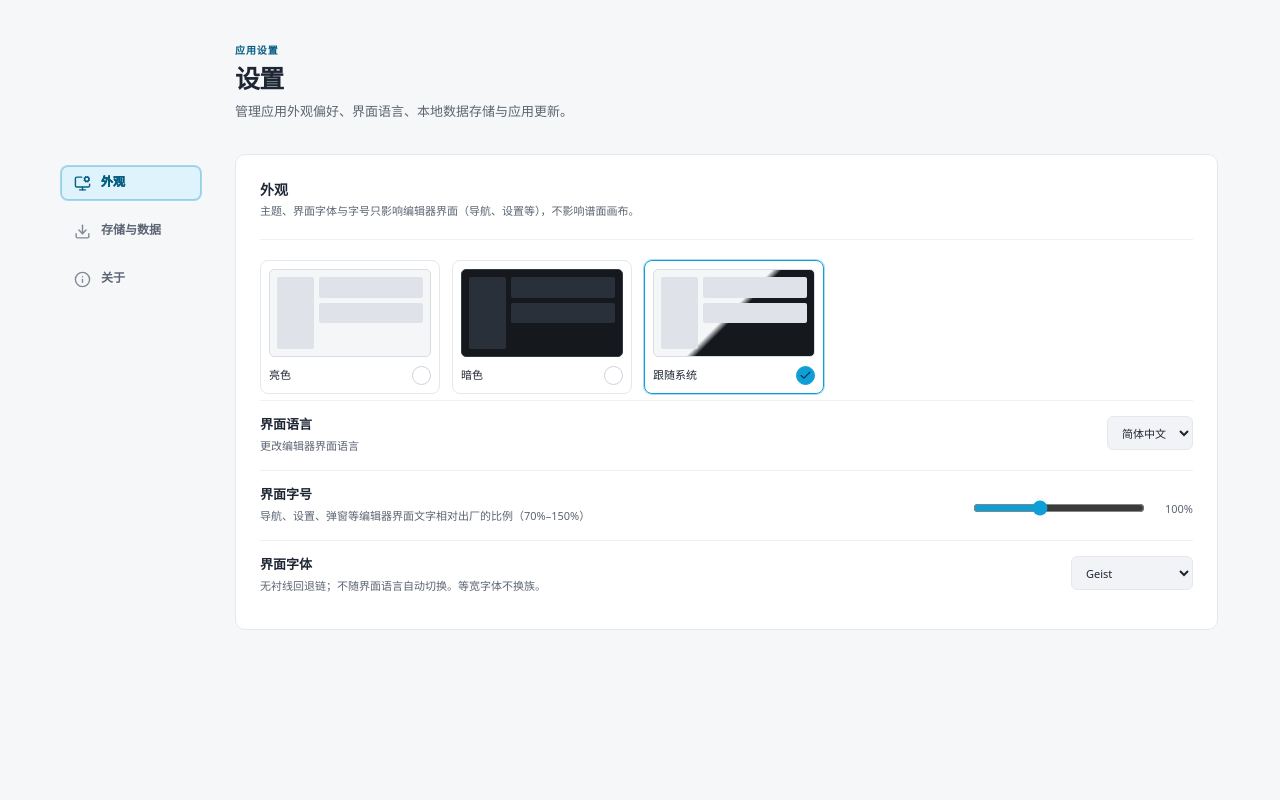
票 14 + 18 + 19 + 48 · 设置页社区素材缓存与数据目录块 › 占用只出总量不再出条数与分桶；点清除后回实时文本并弹一次性 toast
Click the button "存储与数据".
click(131, 230)  # box [61, 214, 201, 248]
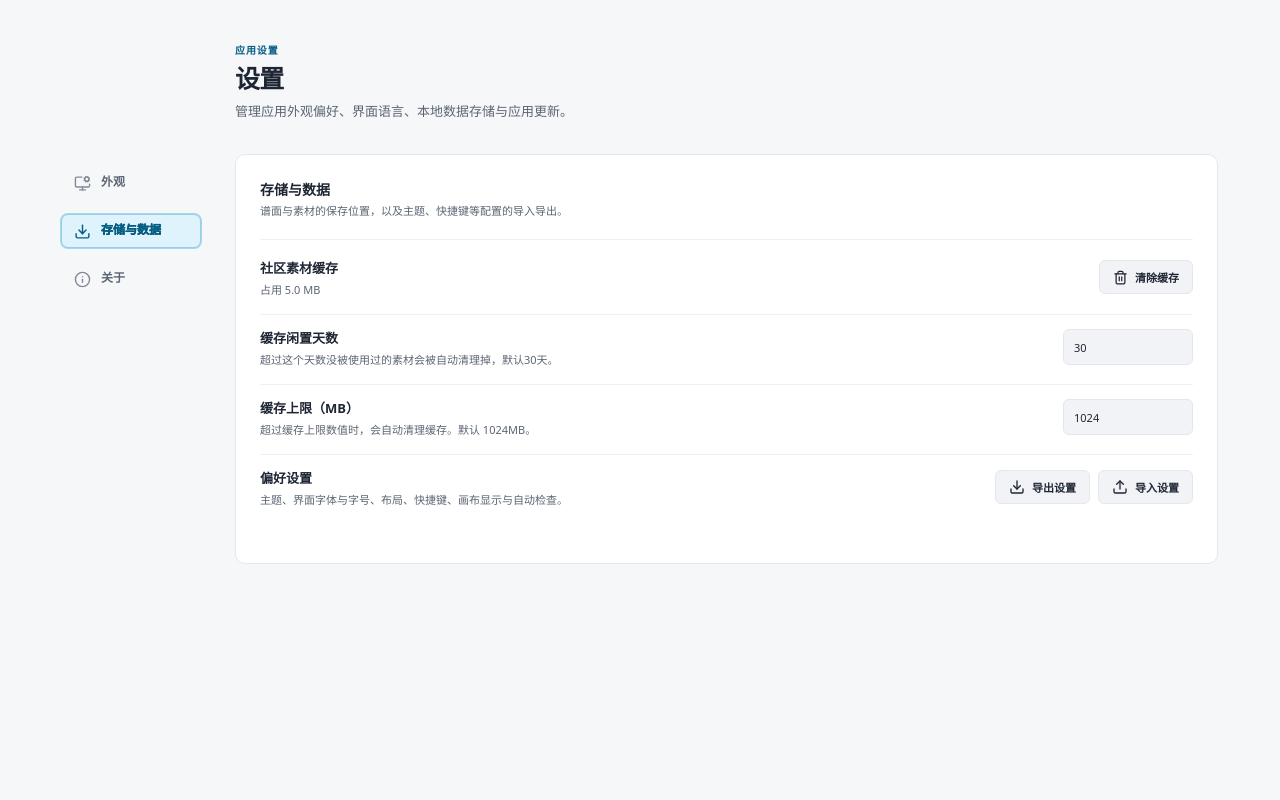
Expected: the text "社区素材缓存" is shown, [260, 258, 338, 276]
Expected: the text "占用 5.0 MB" is shown, [260, 282, 320, 296]
Click the button "清除缓存".
click(1146, 277)  # box [1099, 260, 1193, 294]
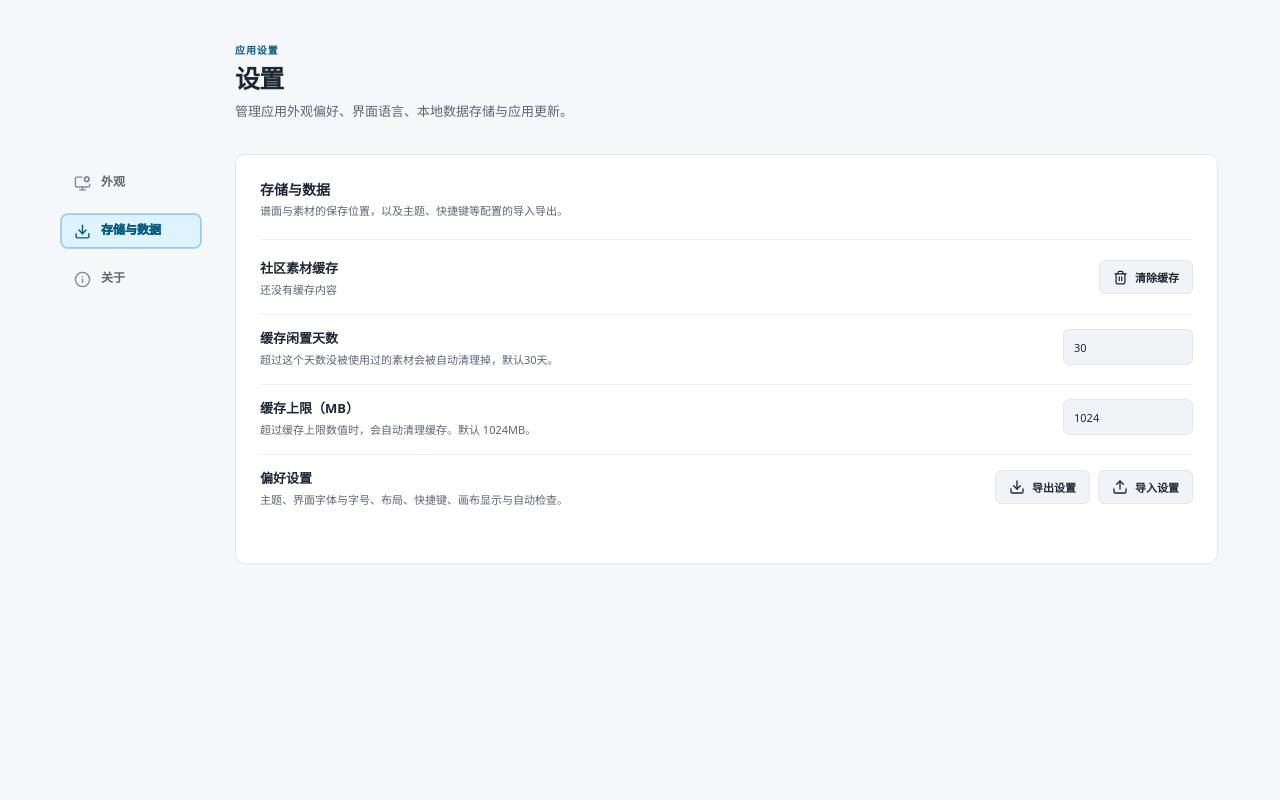
Expected: the text "还没有缓存内容" is shown, [260, 282, 337, 296]
